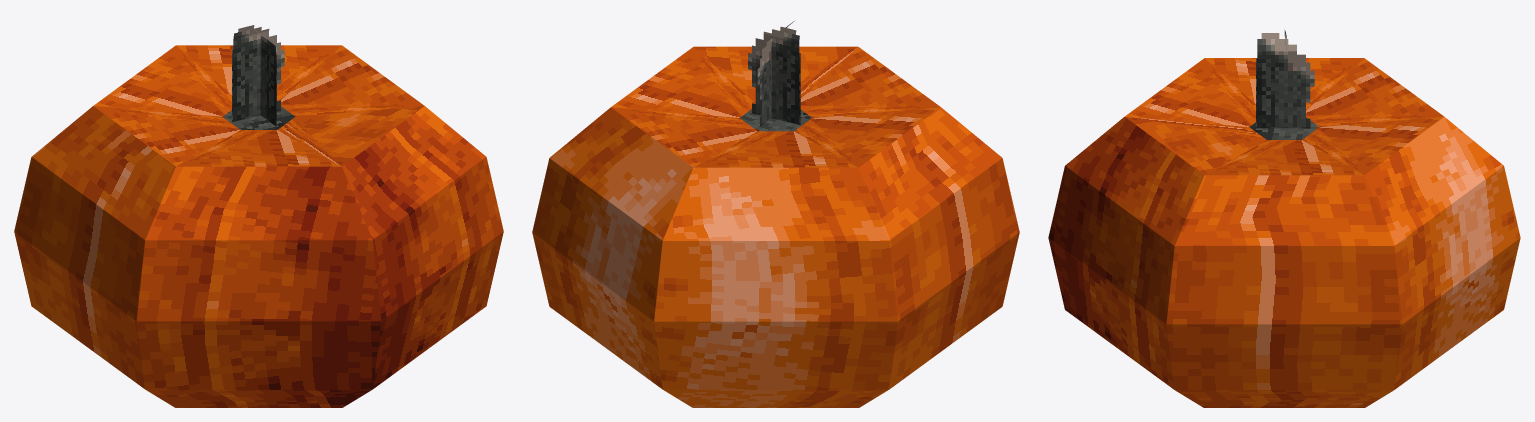
The model's file is pumpkin.glb.
3 views of the same model, side by side, from view 1: azimuth 30°, elevation 25°; view 2: azimuth 150°, elevation 25°; view 3: azimuth 270°, elevation 25° (orthographic). The views are drawn at different scales.
Visible parts, largest first — view 1: pumpkin; view 2: pumpkin; view 3: pumpkin.
Boxes of the visible parts, x1,y1,x2,y2 form: pumpkin: (14, 25, 503, 407); pumpkin: (532, 20, 1019, 407); pumpkin: (1048, 29, 1520, 407).
Size of the model in its own units: 0.5305 by 0.4525 by 0.6126.
Materials: 1 (1 with a texture image).
